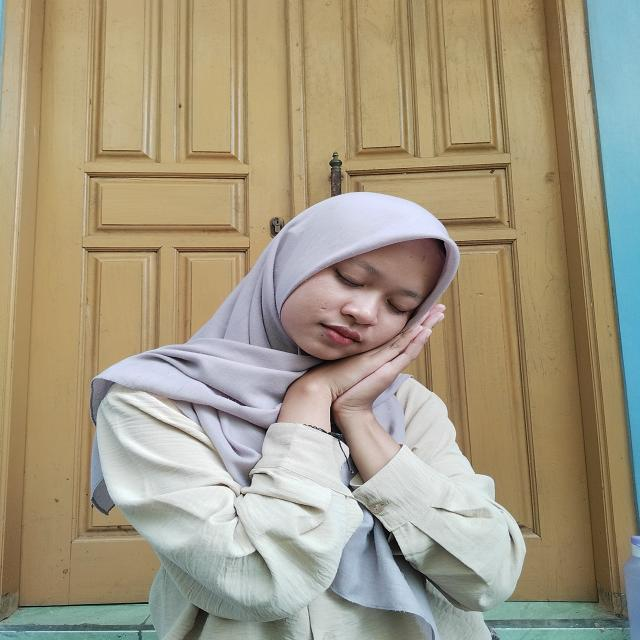tidur: (262, 303, 463, 486)
